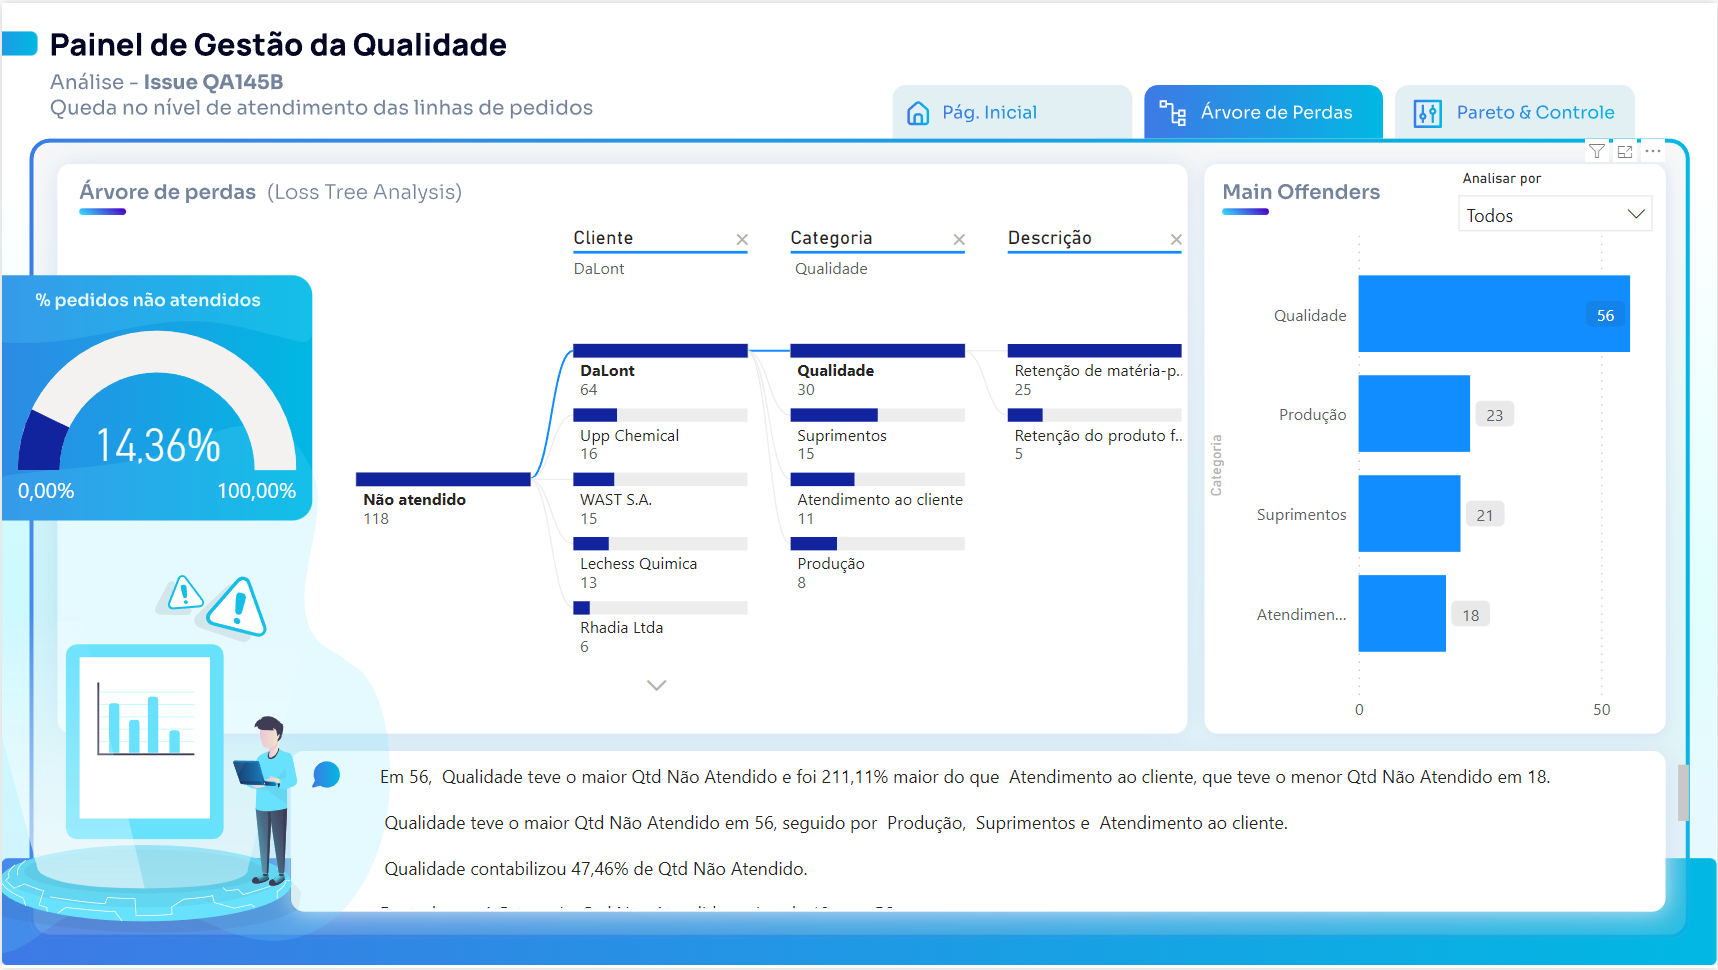

The page's visual inventory and layout, read from the dashboard file:
{"tool":"powerbi","page":{"name":"Árvore de Perdas","canvas":[1280,720],"ordinal":1},"visuals":[{"type":"decompositionTreeVisual","fields":{"Analyze":["fPedidos.Não atendido"],"ExplainBy":["dCliente.Nome","dExceptionCode.Categoria","dExceptionCode.Descrição"]},"box":[234.4,149.8,650.7,389.1],"z":0},{"type":"barChart","fields":{"Category":["dExceptionCode.Categoria","dExceptionCode.Descrição","dExceptionCode.Exception Code","dCliente.Nome","dCliente.Localidade"],"Y":["dCliente.Qtd Não Atendido"]},"box":[895.8,160.5,346.3,385.2],"z":1000},{"type":"slicer","fields":{"Values":["Analisar por.Analisar por"]},"box":[1076.7,119.6,165.3,53.5],"z":2000},{"type":"gauge","fields":{"Y":["Analisar por.% n atendido"]},"box":[6.8,238.3,217.9,147.8],"z":3000},{"type":"textbox","box":[277.2,563.2,987.2,116.7],"z":4000},{"type":"actionButton","box":[1037.6,62,180.4,40.2],"z":4001},{"type":"actionButton","box":[666.4,62,180.4,40.2],"z":4002}]}

Visuals, with their boxes in screenshot pixels (x1, y1, x2, y2), scaled from the page's 1280x720 canvas onto the 1718x970 screenshot:
decompositionTreeVisual - fPedidos.Não atendido x dCliente.Nome: (315, 202, 1188, 726)
barChart - dExceptionCode.Categoria x dExceptionCode.Descrição: (1202, 216, 1667, 735)
slicer - Analisar por.Analisar por: (1445, 161, 1667, 233)
gauge - Analisar por.% n atendido: (9, 321, 302, 520)
textbox: (372, 759, 1697, 916)
actionButton: (1393, 84, 1635, 138)
actionButton: (894, 84, 1137, 138)
